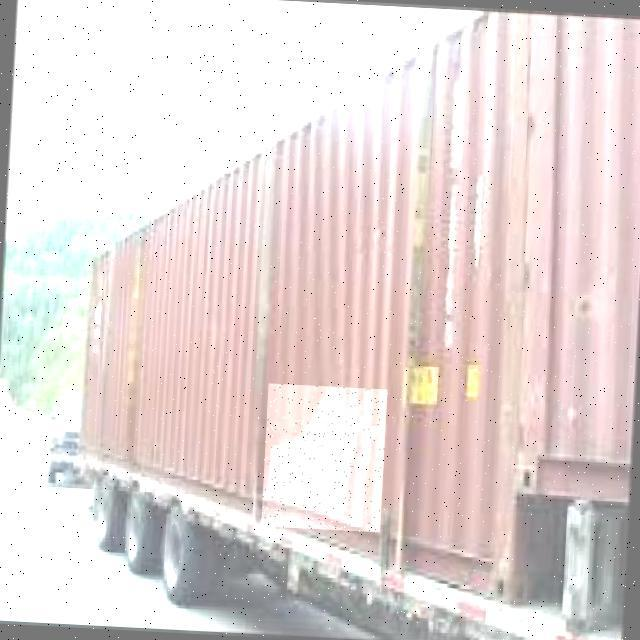Dent: (262, 384, 388, 533)
